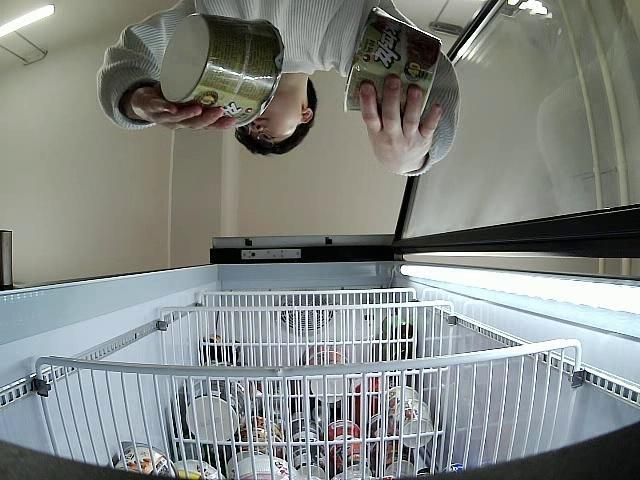03_chapagetti_L: (158, 10, 286, 127), (344, 5, 444, 120)
